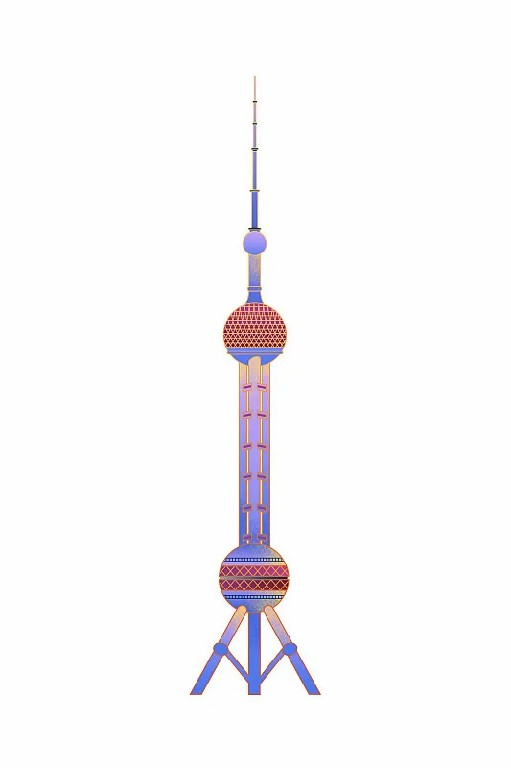Oriental: (189, 77, 320, 694)
